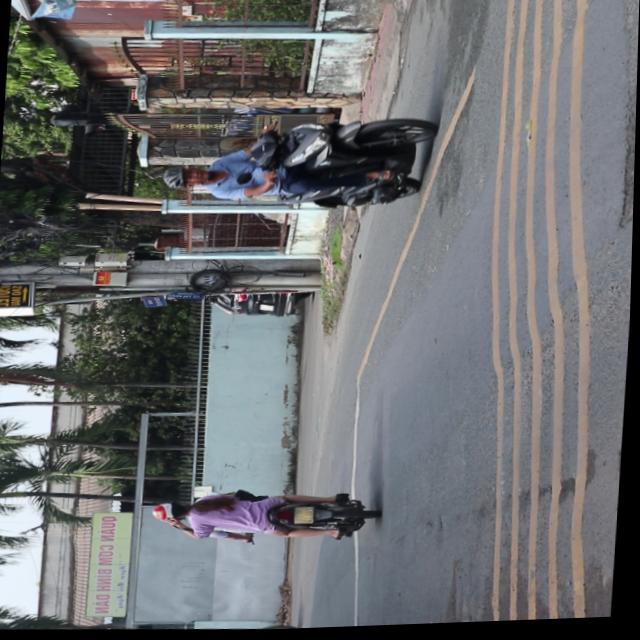helmet: (162, 163, 212, 190), (152, 500, 191, 522)
licenseplate: (159, 106, 441, 222), (150, 482, 382, 549)
nohelmet: (298, 507, 317, 524)
